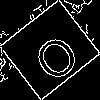O: (24, 25, 83, 85)
